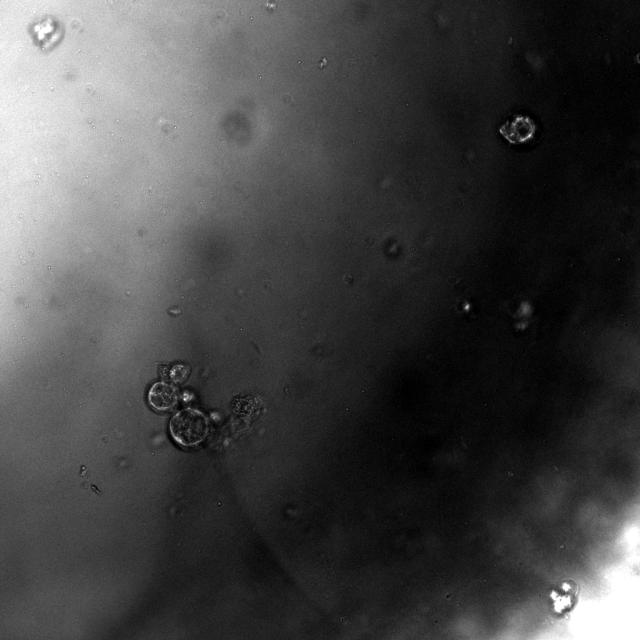organoid: (144, 360, 265, 452), (499, 112, 541, 147), (28, 15, 64, 52), (506, 295, 536, 333), (549, 579, 579, 616)
